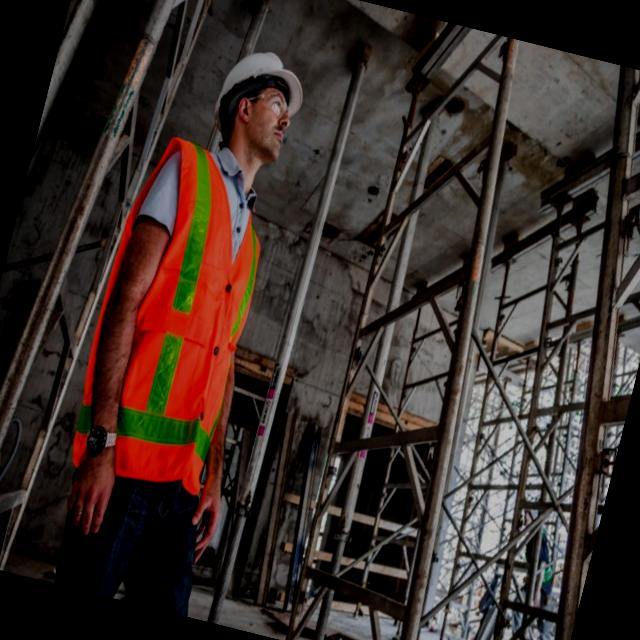goggles: (233, 83, 300, 127)
helmet: (211, 38, 315, 110)
vest: (44, 127, 298, 526)
